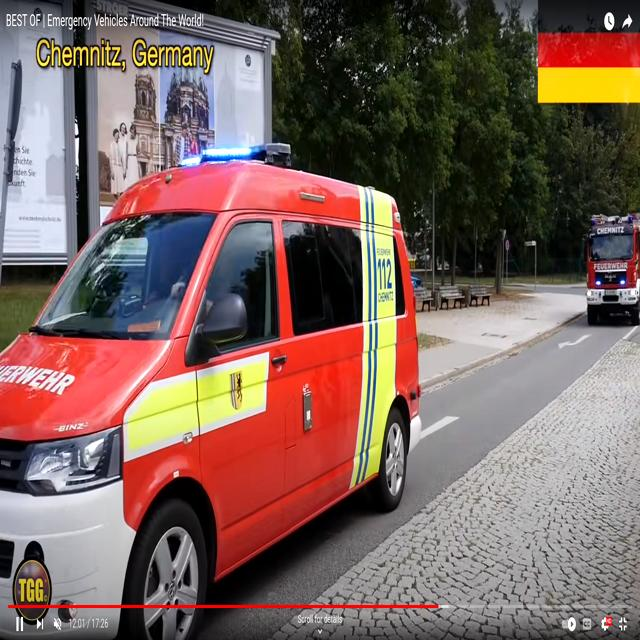emergency-vehicles: (9, 135, 441, 602), (570, 209, 640, 325)
